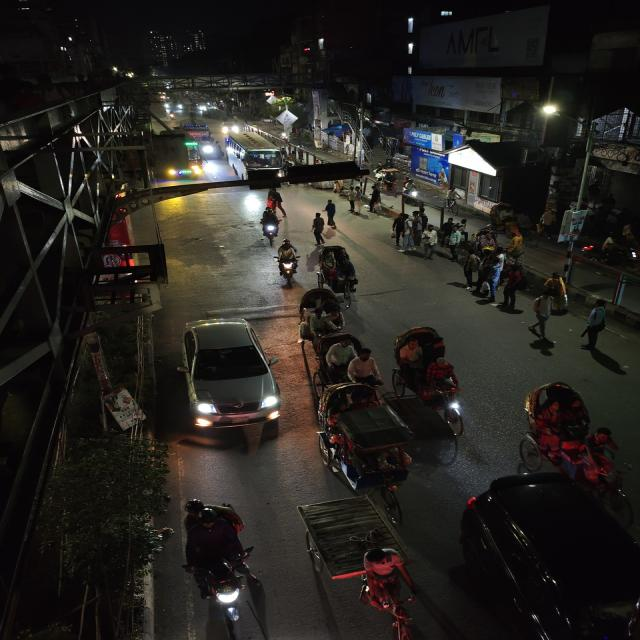bus: (226, 133, 293, 186), (180, 124, 219, 156)
car: (460, 472, 639, 640), (175, 314, 284, 440)
motorcycle: (180, 496, 258, 636), (270, 238, 302, 288), (257, 206, 284, 245)
pedestrian: (575, 297, 615, 351), (528, 292, 566, 335), (498, 266, 530, 310), (478, 255, 505, 297), (542, 272, 571, 310), (460, 247, 486, 286), (389, 212, 414, 252), (419, 225, 440, 260), (264, 186, 289, 214), (443, 224, 462, 260), (309, 212, 329, 245), (439, 217, 459, 250), (366, 181, 386, 212), (346, 186, 363, 216), (322, 200, 340, 228), (412, 208, 428, 232), (456, 217, 471, 241)
rickshaw: (301, 494, 423, 640), (512, 378, 630, 488), (314, 382, 416, 494), (390, 324, 477, 430), (315, 242, 365, 308), (293, 287, 344, 345)
